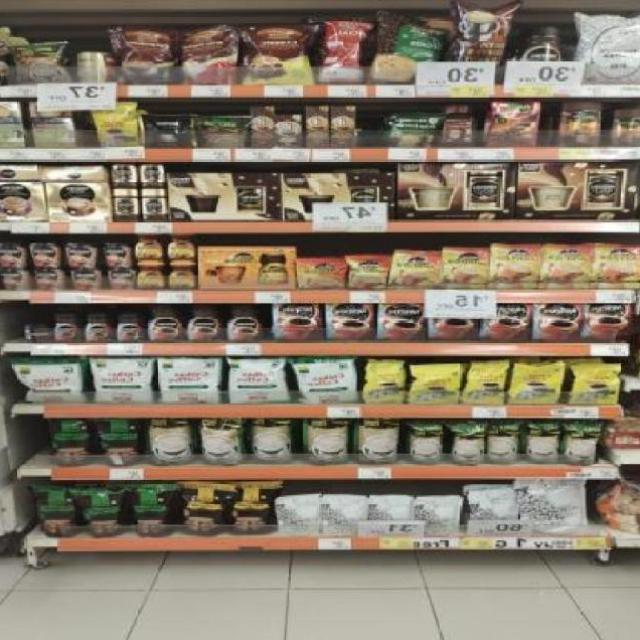Coffee: (488, 248, 542, 289), (543, 247, 591, 288), (441, 249, 489, 289), (583, 304, 631, 343), (390, 252, 441, 288), (481, 304, 532, 340), (596, 247, 640, 288), (533, 303, 580, 341), (378, 305, 426, 340), (326, 304, 370, 340), (277, 304, 320, 340), (298, 260, 344, 290), (226, 305, 263, 341), (349, 256, 387, 288), (148, 305, 181, 341), (189, 304, 221, 340), (430, 318, 480, 340), (84, 313, 112, 342), (114, 189, 139, 221), (116, 313, 142, 342), (167, 261, 194, 288), (110, 161, 138, 187), (142, 190, 166, 220), (137, 261, 163, 288), (136, 233, 162, 259), (169, 234, 195, 260), (54, 313, 78, 341), (140, 162, 164, 189)
